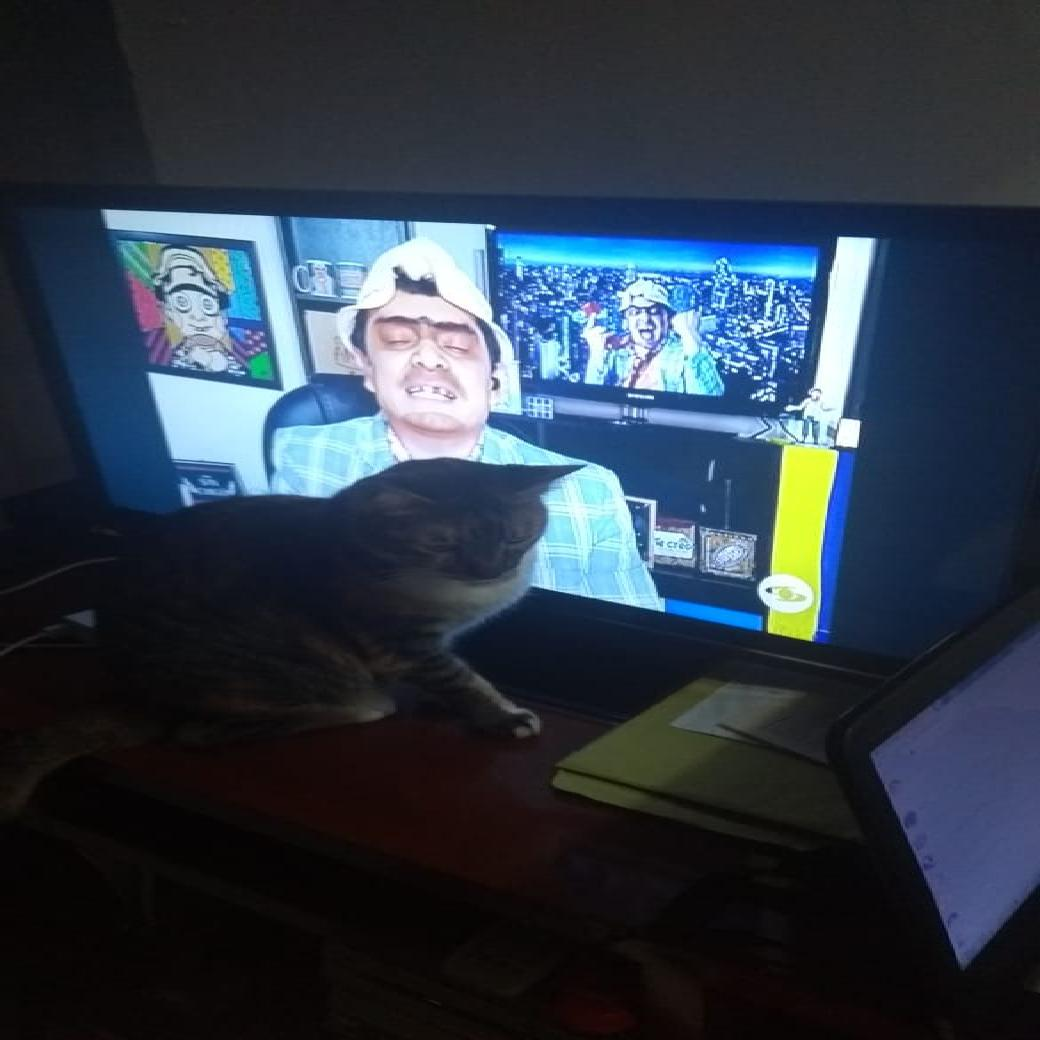laptop: (831, 573, 1040, 1011)
tv: (5, 189, 1029, 662)
